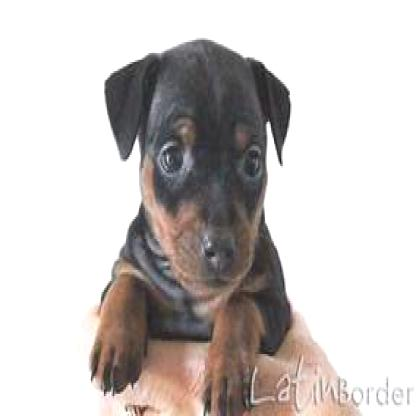dog: (90, 38, 294, 414)
